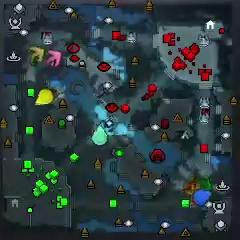p1: (194, 189, 212, 205)
p2: (92, 125, 108, 146)
p4: (35, 88, 54, 105)
x1: (46, 50, 62, 68)
x2: (29, 45, 45, 64)
x3: (102, 119, 115, 136)
x4: (197, 176, 212, 192)
x5: (183, 180, 200, 196)
